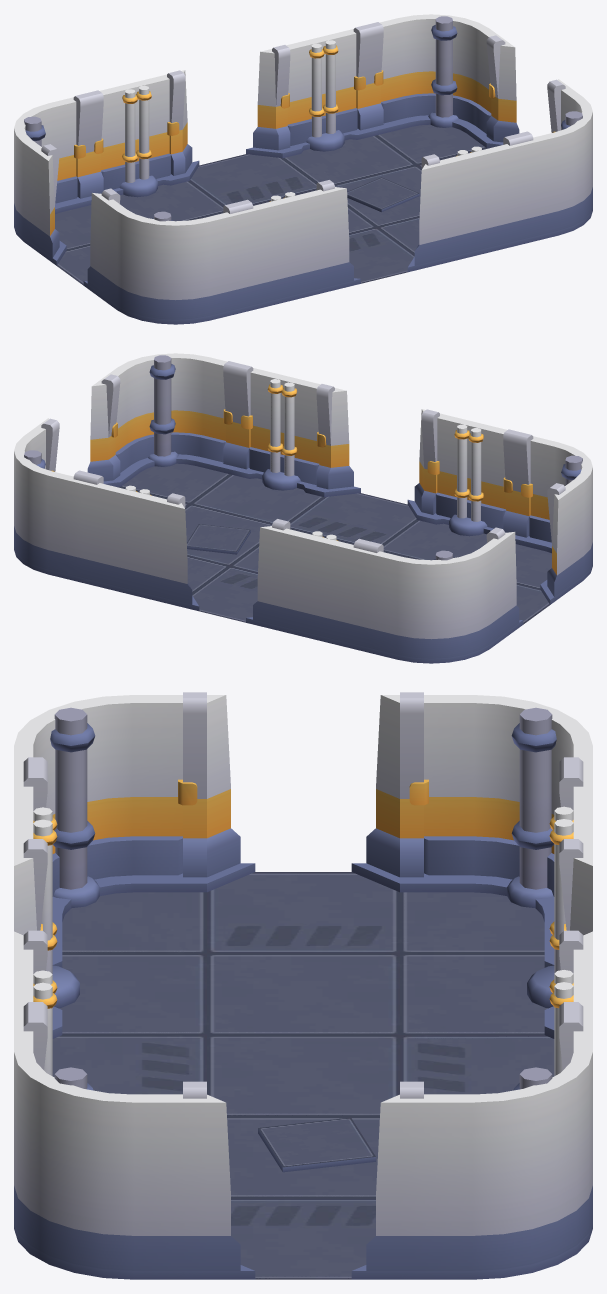
File: space-room-wide.glb
The picture shows the model from 3 angles, top to bottom: view 1: azimuth 30°, elevation 25°; view 2: azimuth 150°, elevation 25°; view 3: azimuth 270°, elevation 25°; orthographic projection. The views are drawn at different scales.
Visible parts, largest first — view 1: room-wide; view 2: room-wide; view 3: room-wide.
Boxes of the visible parts, left/top/right/bottom form: room-wide: left=14, top=14, right=592, bottom=324; room-wide: left=14, top=353, right=592, bottom=663; room-wide: left=14, top=692, right=592, bottom=1279.
Size of the model in its own units: 20 by 4.25 by 12.
1 material, 1 textured.
